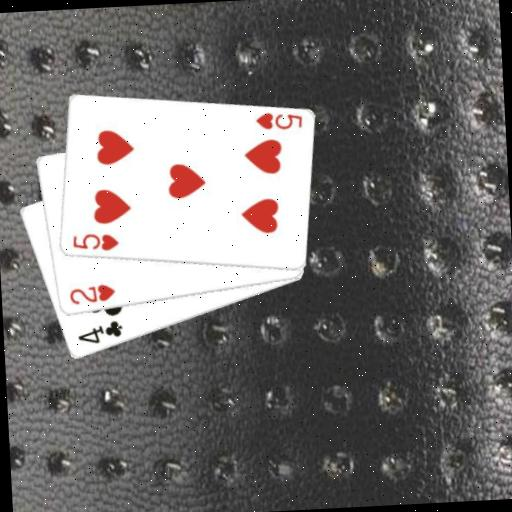2H: (65, 281, 117, 307)
4C: (74, 317, 125, 347)
5H: (69, 230, 121, 255), (252, 108, 304, 133)
